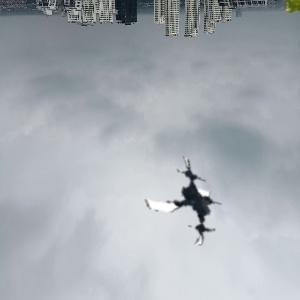drone: (135, 152, 231, 248)
